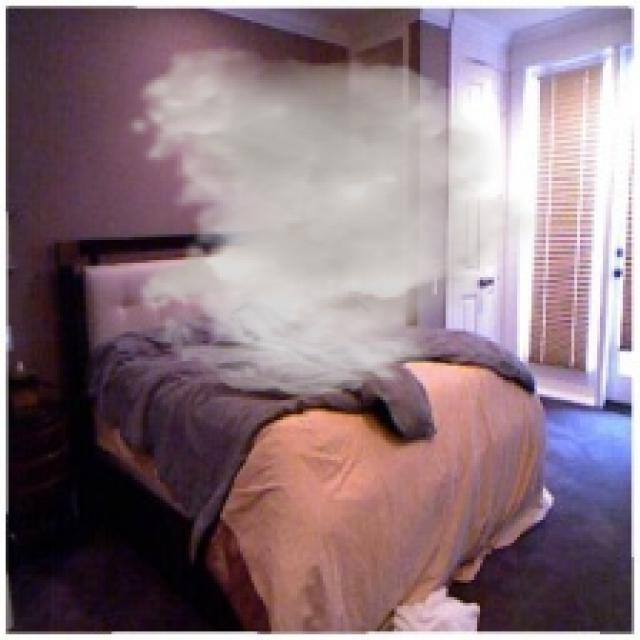smoke: (126, 46, 551, 397)
